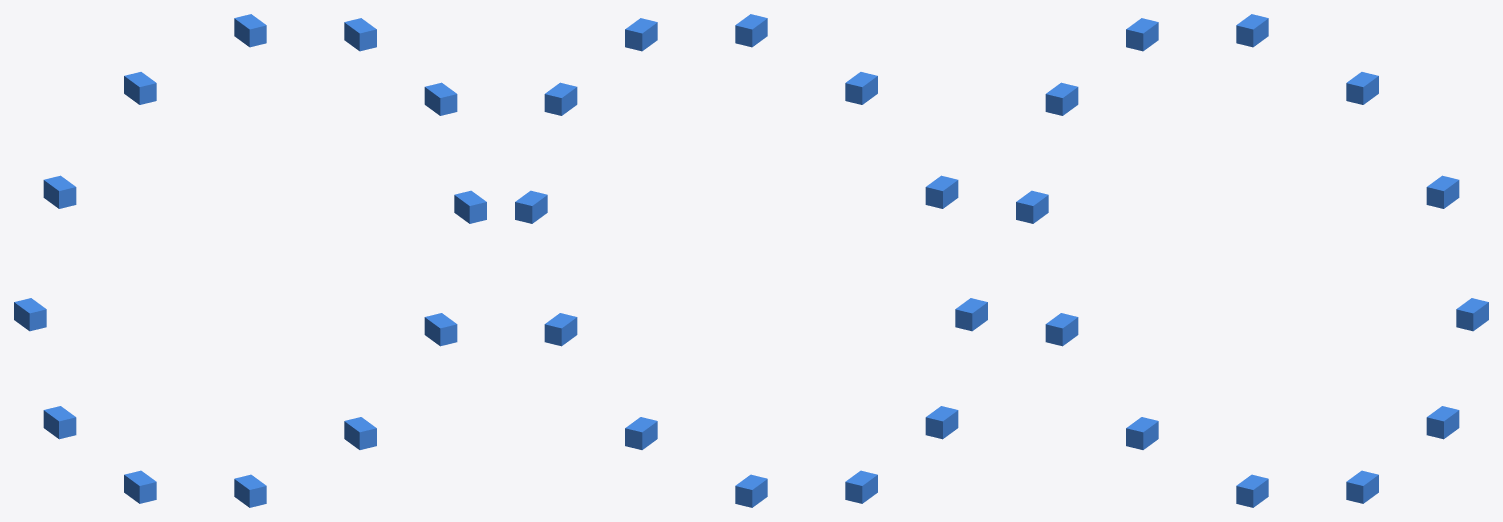
Rendered from nodes.obj.
3 views of the same model, side by side, from view 1: azimuth 30°, elevation 25°; view 2: azimuth 150°, elevation 25°; view 3: azimuth 330°, elevation 25° (orthographic).
Visible parts, largest first — view 1: portal; view 2: portal; view 3: portal.
Part boxes in pixels (bbox=[...]): portal: bbox=[14, 14, 486, 507]; portal: bbox=[515, 14, 987, 507]; portal: bbox=[1016, 14, 1488, 507].
Size of the model in its own units: 374 by 374 by 22.
